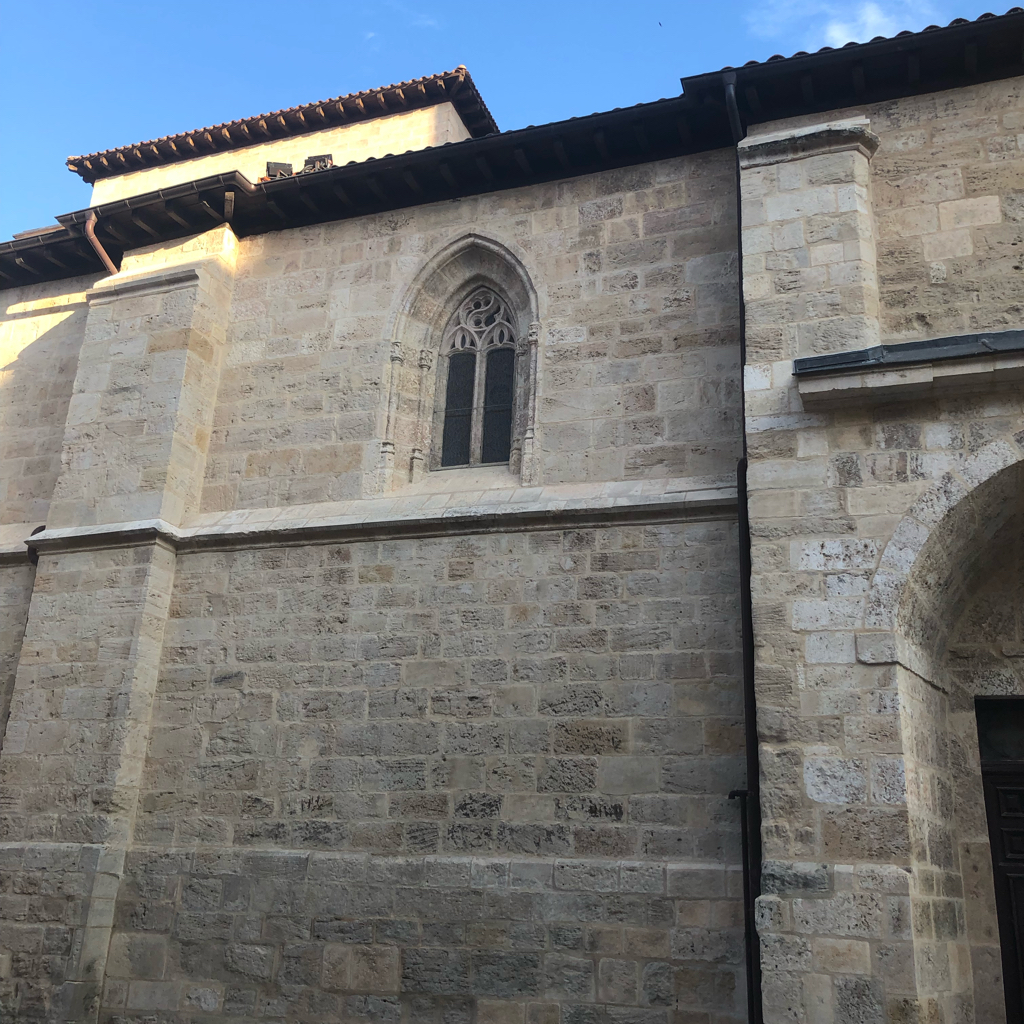arco-apuntado: (387, 228, 542, 341)
